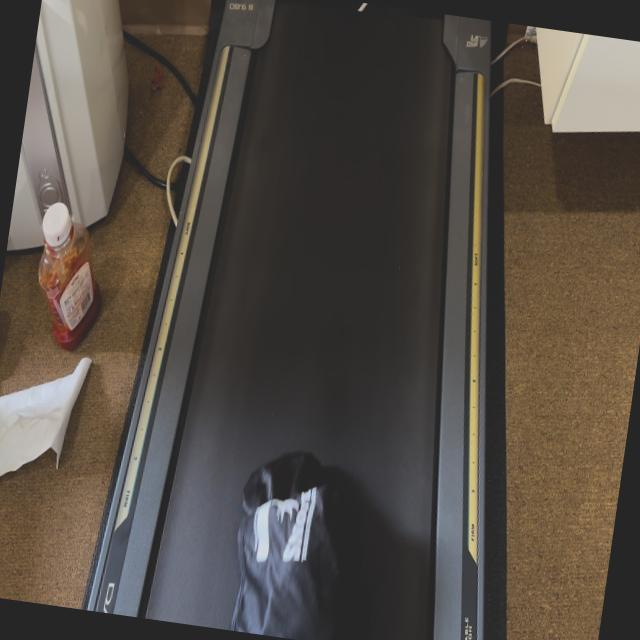Trash: (218, 432, 363, 640)
